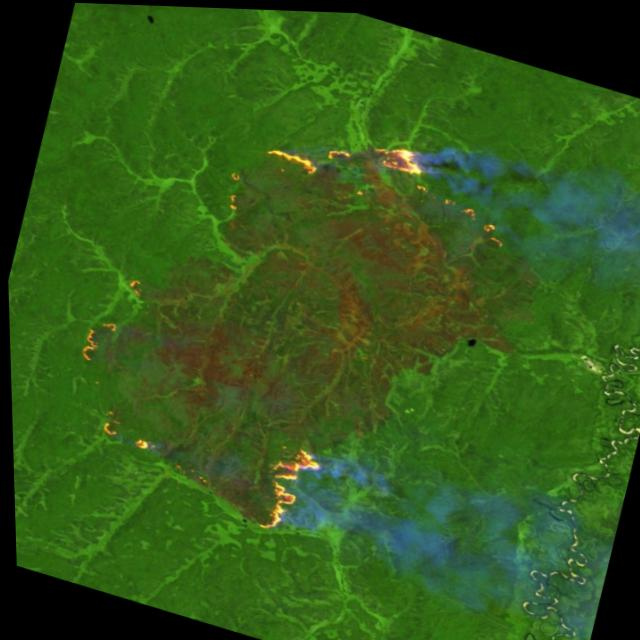fire: (250, 436, 329, 541), (91, 405, 160, 454), (75, 311, 122, 369)
